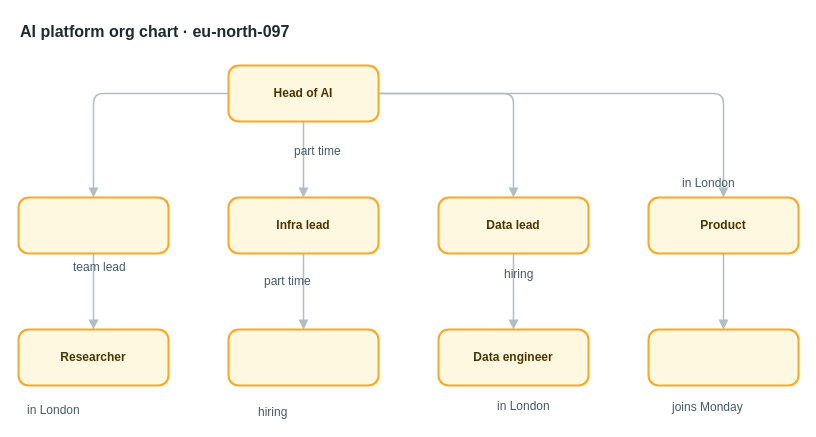
Some shapes in this 816 by 437 pixel diagram are drawn without their labels. Here are the shapes that lost their labels. From the top down, the centre of each, then its label:
pixel 93 225: ML lead
pixel 303 357: SRE
pixel 723 357: Designer
